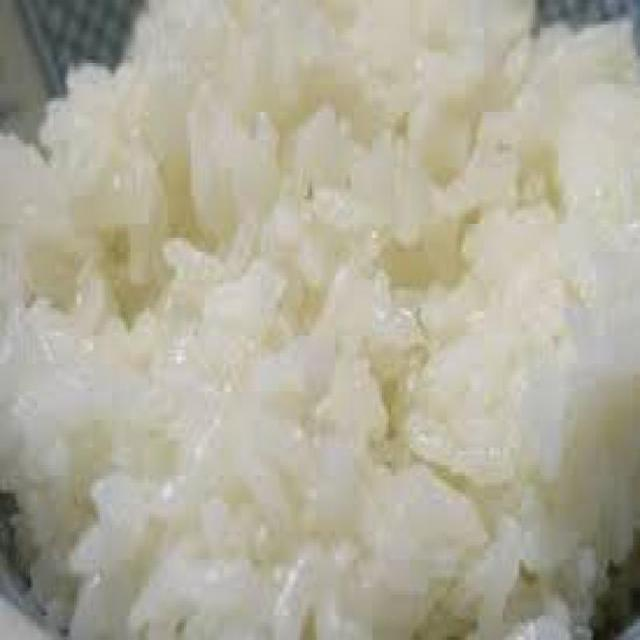Rice: (0, 3, 639, 639)
